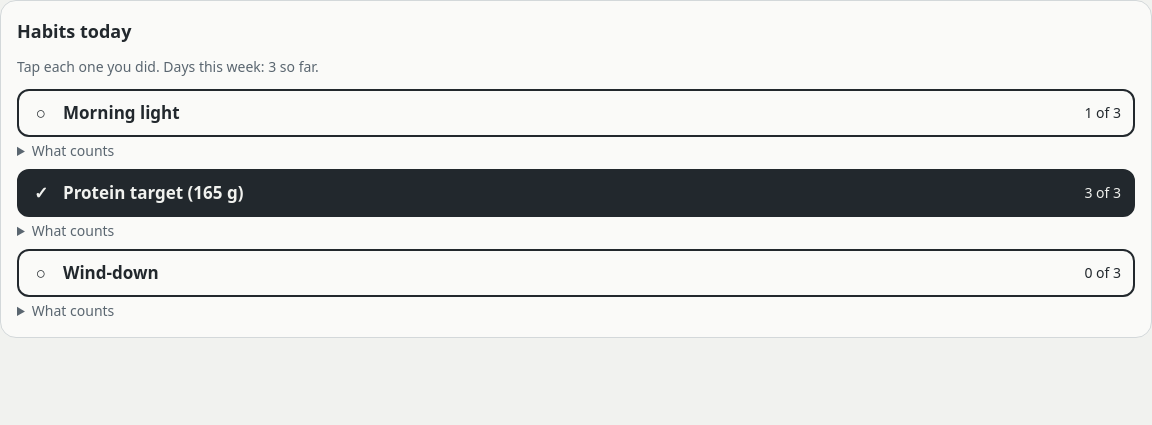
Test case: a failed tap says so and keeps the state
Click the button "○ Wind-down 0 of 3".
click(111, 272)  # box [17,249,1135,297]
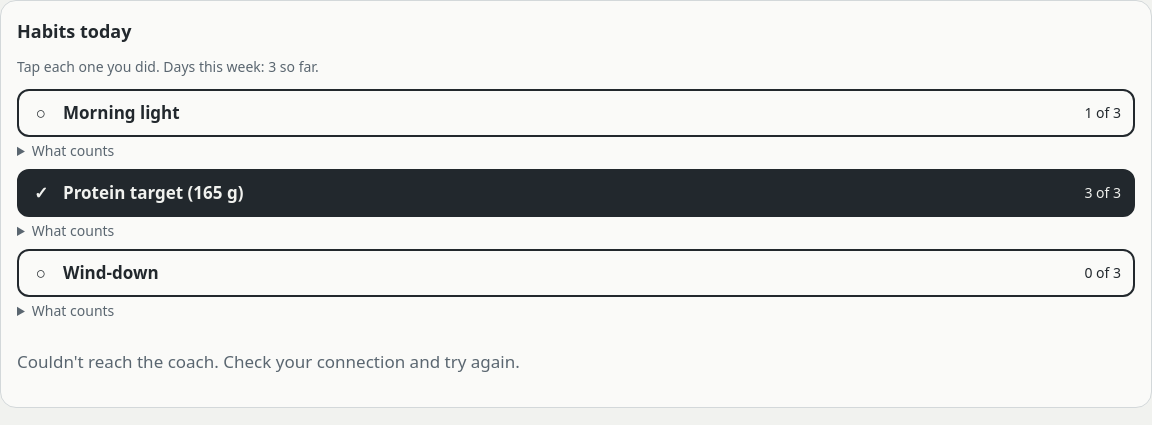
Expected: the text "Couldn't reach the coach. Check your connection and try again." is shown, [17,350,520,373]
